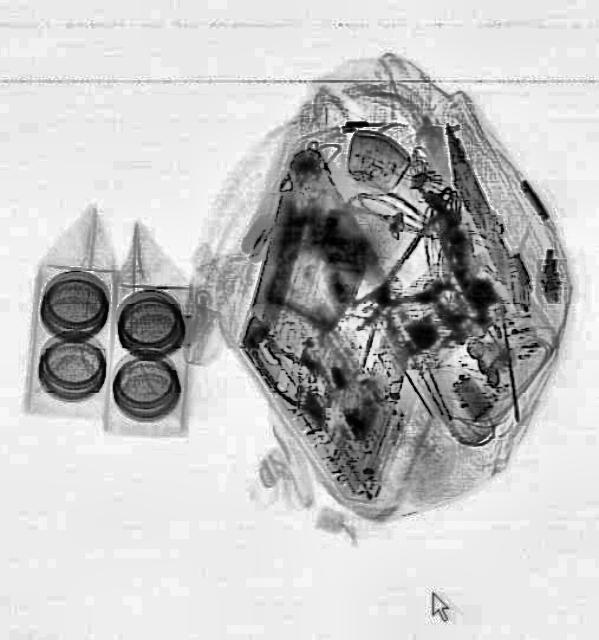Pliers: (326, 208, 478, 348)
